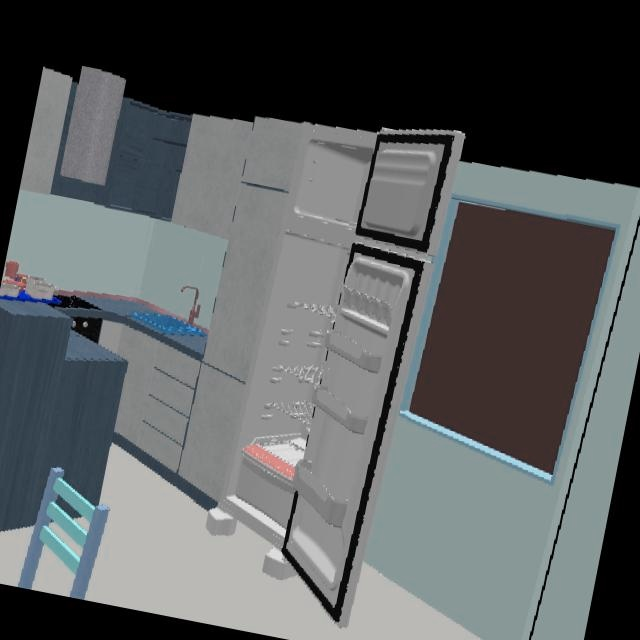cabinet: (119, 117, 313, 506)
countertop: (73, 292, 170, 323)
fridge: (227, 126, 462, 607)
oven: (71, 318, 103, 349)
shelf: (100, 98, 193, 222)
sink: (130, 314, 197, 334)
stove: (50, 295, 94, 311)
